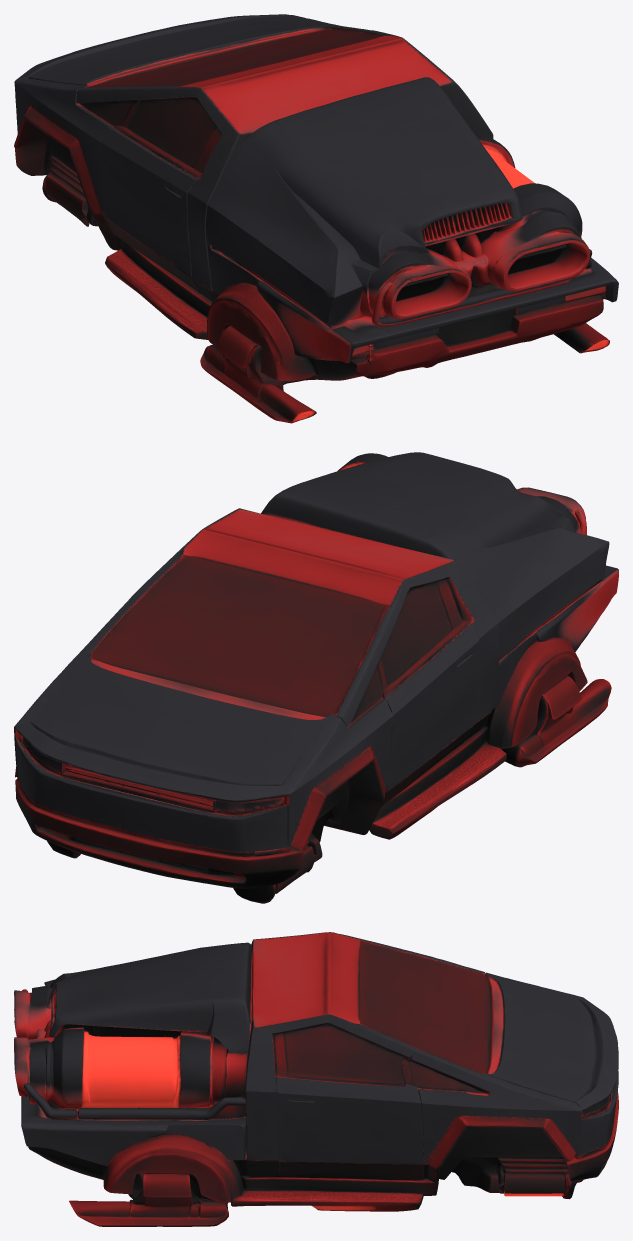
Rendered from sandboxer_remnant.glb.
The picture shows the model from 3 angles, top to bottom: view 1: azimuth 30°, elevation 25°; view 2: azimuth 150°, elevation 25°; view 3: azimuth 270°, elevation 25°; orthographic projection. The views are drawn at different scales.
Parts seen in each view (by area): view 1: model; view 2: model; view 3: model.
Boxes of the visible parts, x1,y1,x2,y2 form: model: [14, 14, 618, 423]; model: [14, 452, 618, 903]; model: [14, 932, 618, 1226].
Bounding box in the file's own units: 2.7 × 1.75 × 4.96.
Materials: 1 (1 with a texture image).
